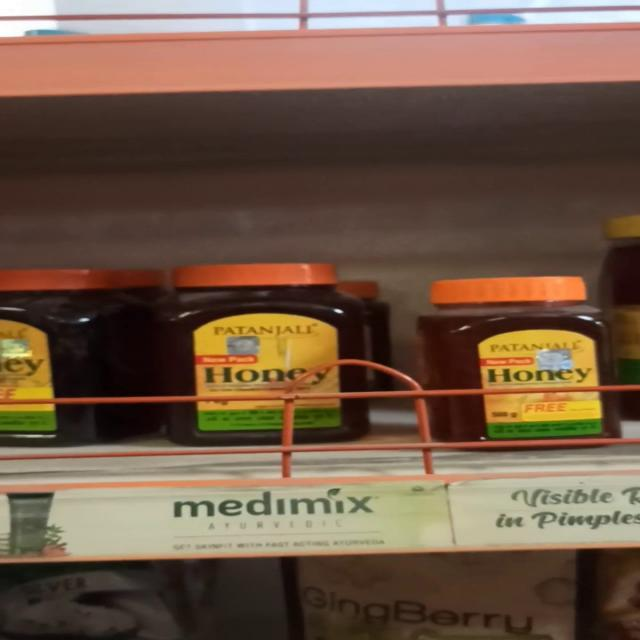Patanjali Honey: (181, 264, 382, 440), (423, 284, 620, 438)
